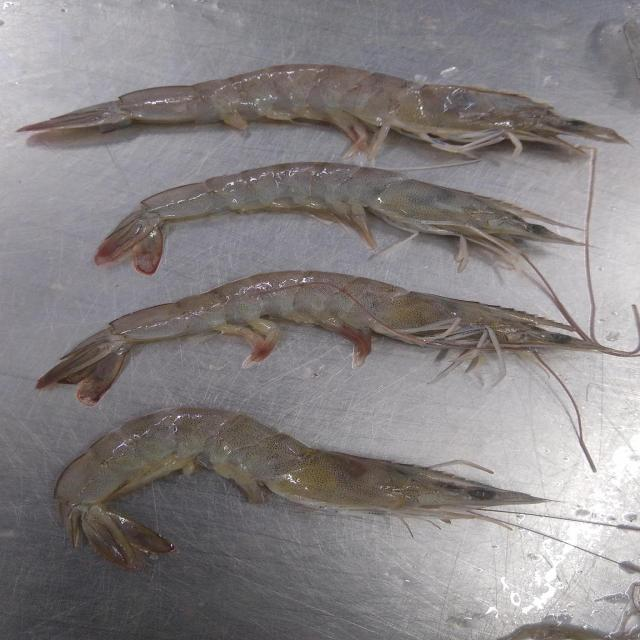shrimp: (36, 271, 620, 405), (18, 64, 627, 164), (96, 162, 580, 275)
